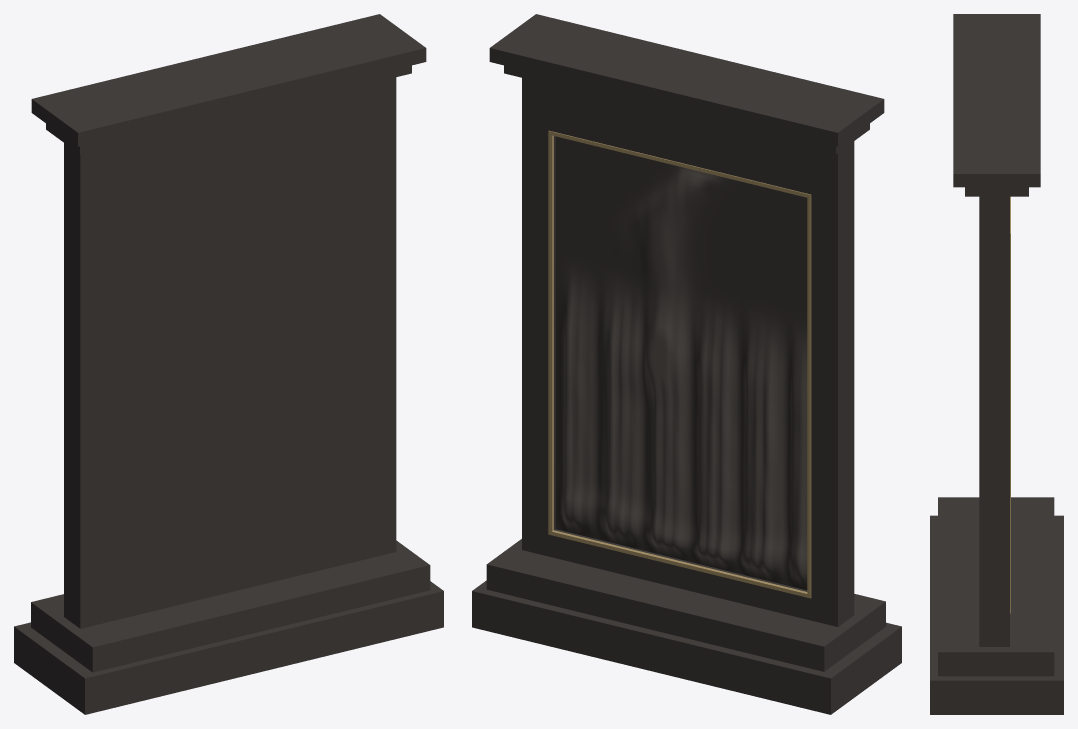
Rendered from memorial_relief.glb.
The picture shows the model from 3 angles, left to right: view 1: azimuth 30°, elevation 25°; view 2: azimuth 150°, elevation 25°; view 3: azimuth 270°, elevation 25°; orthographic projection. The views are drawn at different scales.
Visible parts, largest first — view 1: reliefFrame; view 2: reliefFrame, reliefField, reliefGilt; view 3: reliefFrame, reliefGilt.
Part boxes in pixels (left/top/right/bottom): reliefFrame: left=14, top=14, right=443, bottom=714; reliefFrame: left=472, top=14, right=901, bottom=714; reliefField: left=555, top=136, right=807, bottom=590; reliefGilt: left=548, top=130, right=811, bottom=598; reliefFrame: left=930, top=14, right=1063, bottom=714; reliefGilt: left=1010, top=196, right=1010, bottom=613.
Size of the model in its own units: 1.34 by 2.04 by 0.46.
